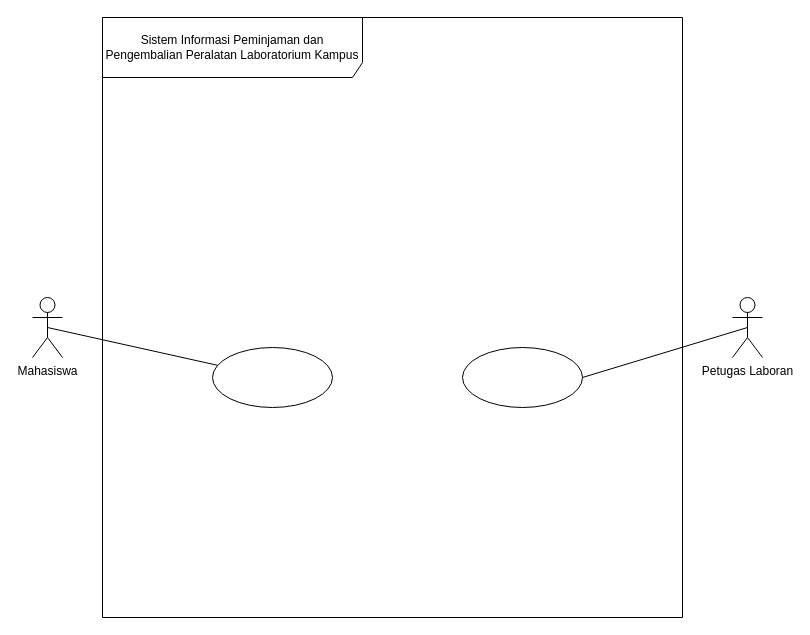
Image size: 810x635. Some labels were removed from this diagram. The shapes that lost their labels are listed below. From the top down, each one's box as (x1, y1, x2, y2) in pixels, then its label:
(212, 346, 332, 408): Lihat persediaan peralatan
(462, 346, 582, 408): Kelola data peralatan
